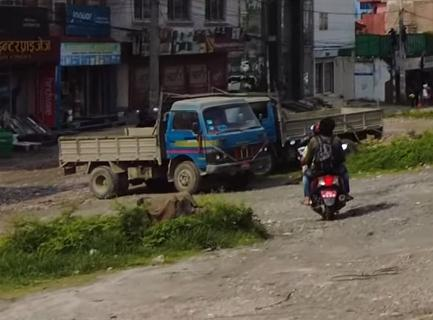mini_truck: (50, 86, 270, 200)
scooter: (296, 114, 354, 218)
